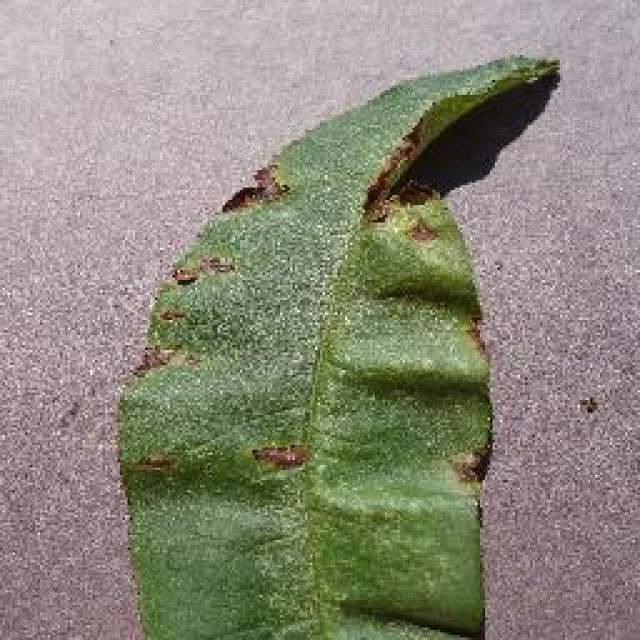Peach_Bacterial_Spot: (153, 127, 552, 538)
